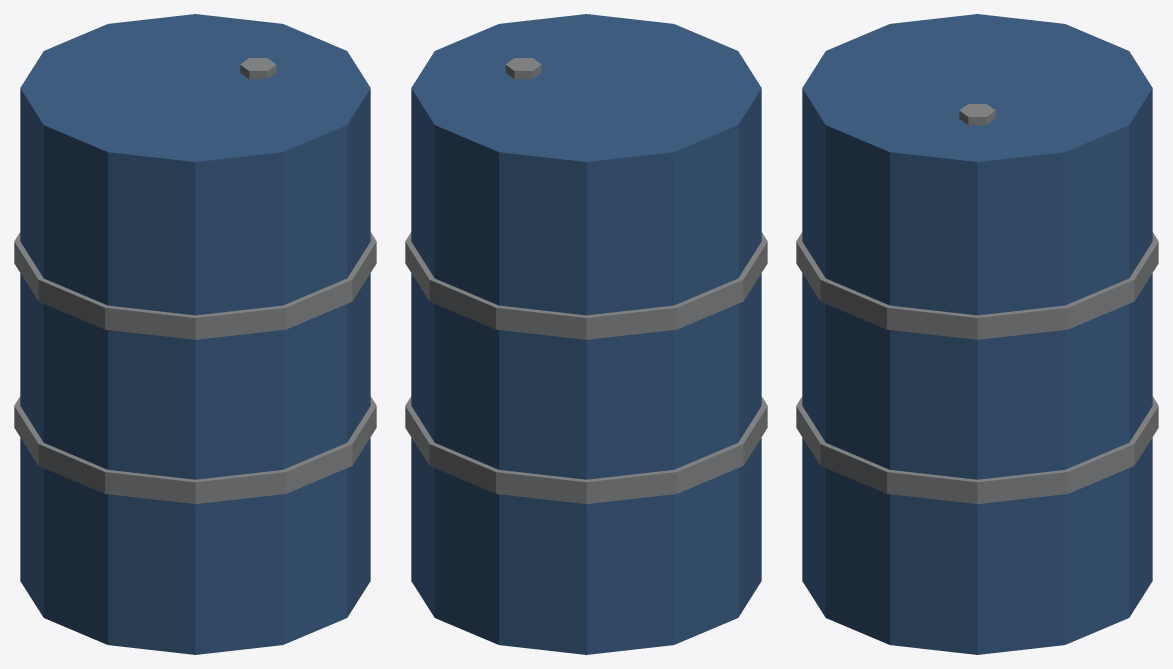
The model's file is hangar_baril.glb.
3 renders of one model, left to right at view 1: azimuth 30°, elevation 25°; view 2: azimuth 150°, elevation 25°; view 3: azimuth 270°, elevation 25°, orthographic.
Parts seen in each view (by area): view 1: hangar_baril; view 2: hangar_baril; view 3: hangar_baril.
Part boxes in pixels (x1,y1,x2,y2): hangar_baril: (14, 14, 376, 654); hangar_baril: (405, 14, 767, 654); hangar_baril: (796, 14, 1158, 654).
Size of the model in its own units: 0.6 by 0.915 by 0.6.
